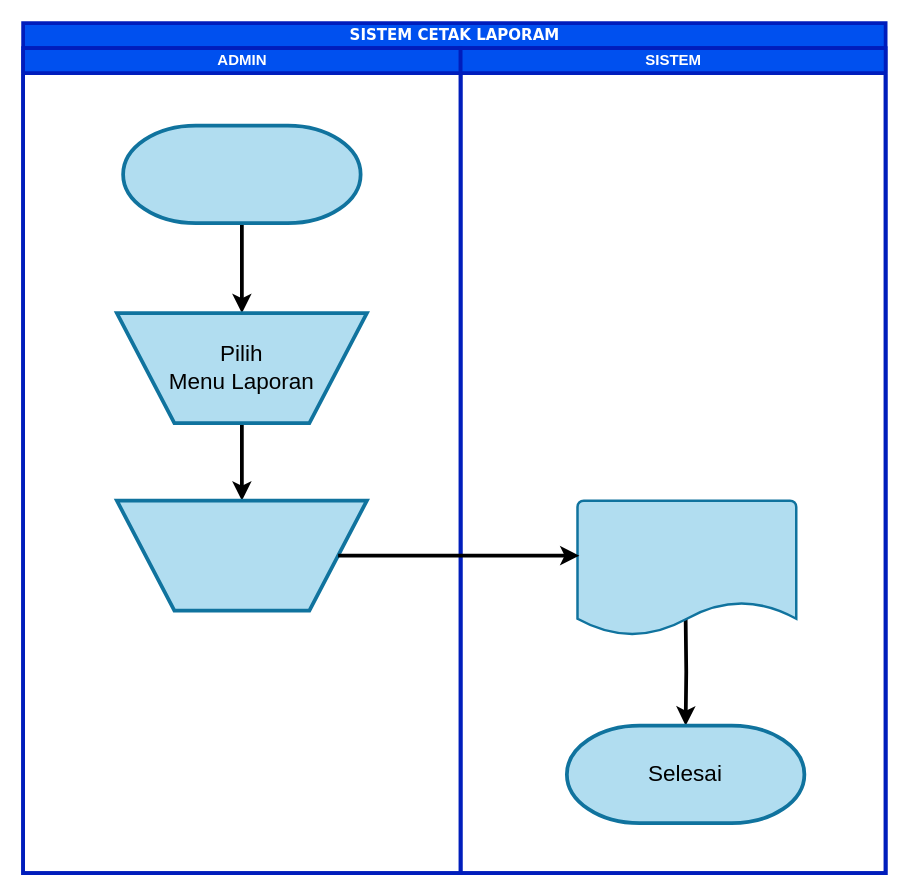
Image size: 909x896. Some labels were removed from this diagram. Each missing label, with the centre of its shape:
"Cetak Laporan Keuangan" belongs at point (241, 555).
"Laporan Berhasil Dicetak" belongs at point (686, 567).
"Mulai" belongs at point (241, 173).
